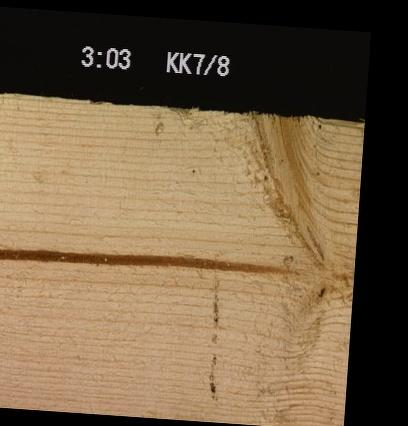small_knot: (311, 283, 329, 299)
